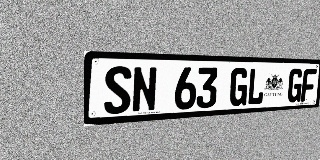3: (196, 67, 218, 109)
6: (174, 67, 198, 110)
F: (301, 69, 317, 102)
G: (229, 68, 249, 106), (287, 68, 304, 103)
L: (247, 68, 266, 105)
N: (132, 66, 158, 113)
S: (104, 66, 132, 115)
